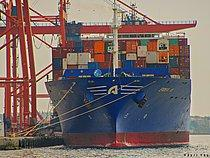Ship: (45, 29, 196, 153)
